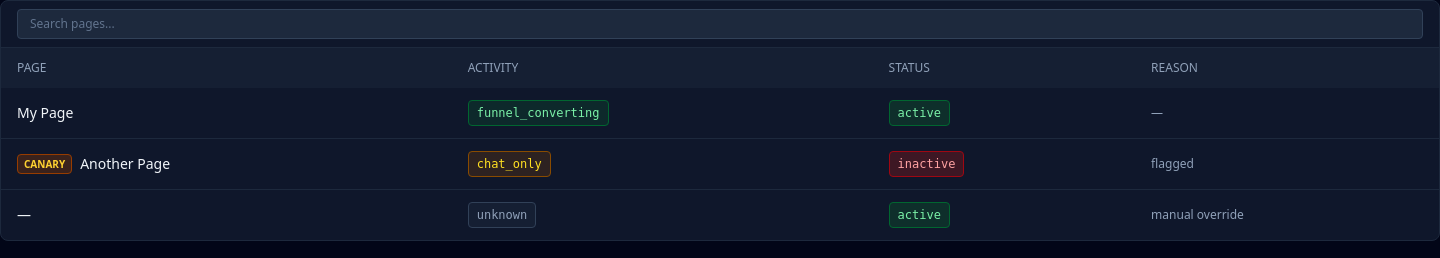
Scenario: SearchablePageTable › filters by page_id
Type "def456" into the field with placeholder "Search pages..." at (720, 24), box [17,9,1423,39]
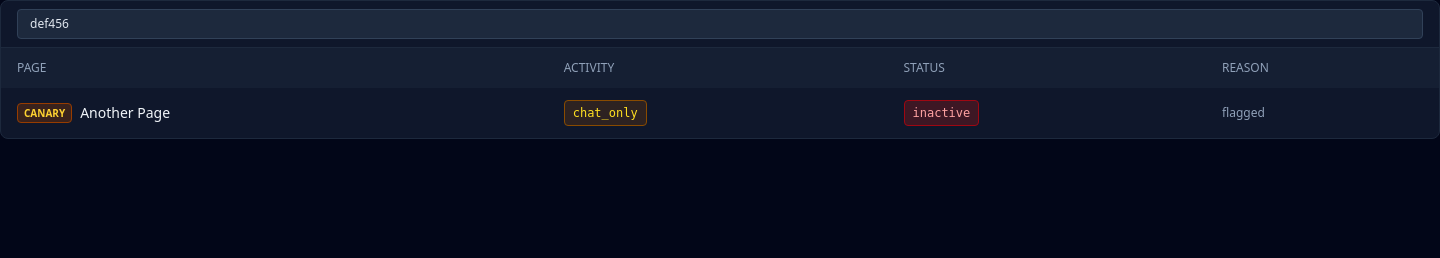
Expected: the link "Another Page" is shown, [80,103,170,123]
Now the link "My Page" is gone
